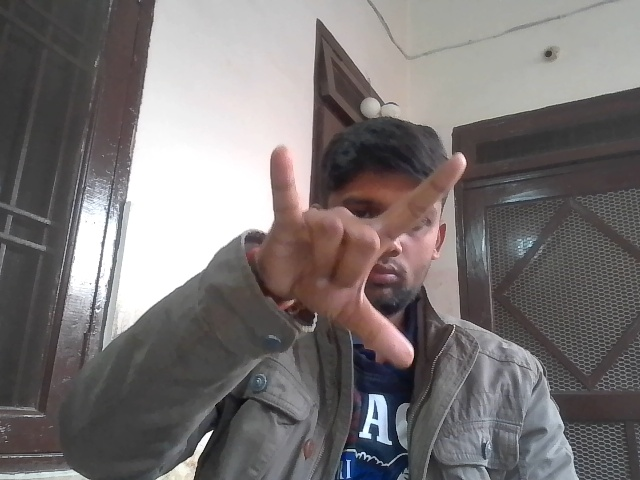ILoveYou: (258, 133, 475, 380)
